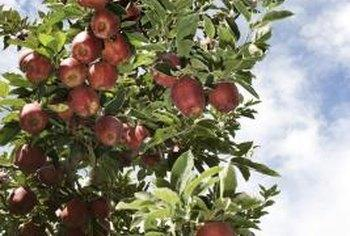apple: (172, 76, 204, 117), (89, 8, 119, 39), (56, 196, 86, 227), (18, 103, 48, 134), (70, 31, 100, 62), (6, 184, 36, 215), (87, 60, 117, 91), (21, 52, 51, 83), (13, 141, 43, 172), (93, 115, 123, 146), (68, 86, 98, 117), (102, 34, 132, 65), (209, 83, 239, 114), (56, 57, 86, 88)
